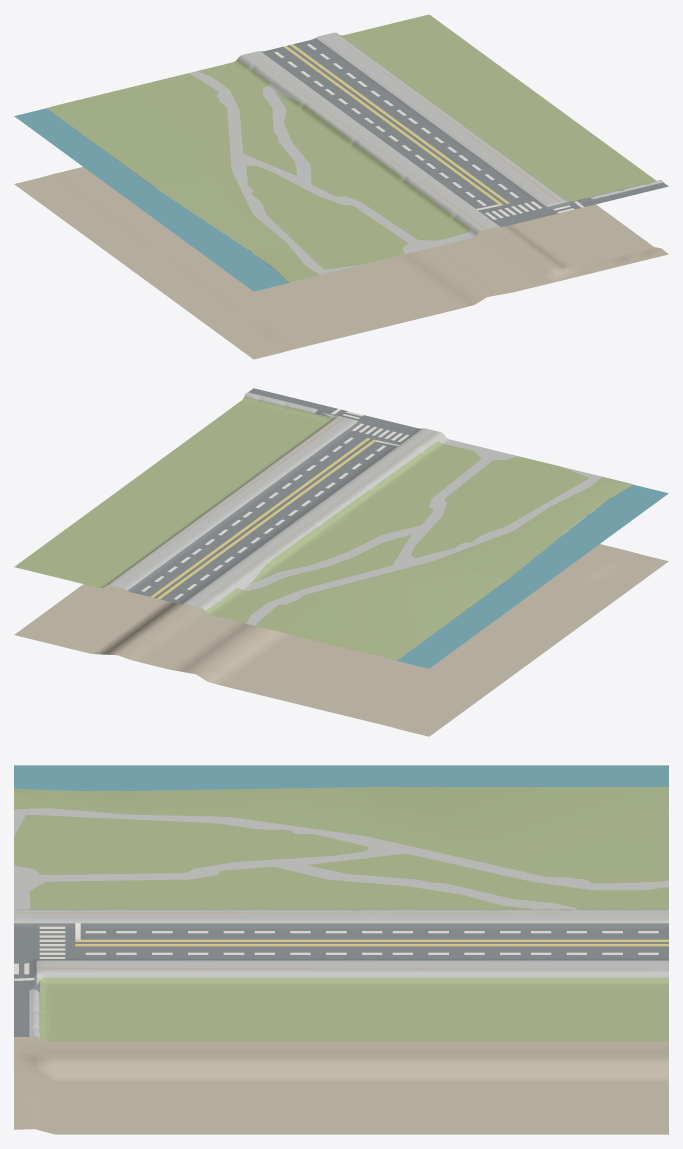
3 renders of one model, top to bottom at view 1: azimuth 30°, elevation 25°; view 2: azimuth 150°, elevation 25°; view 3: azimuth 270°, elevation 25°, orthographic. The views are drawn at different scales.
Visible parts, largest first — view 1: s_-12_-4__grass, s_-12_-4__soil, s_-12_-4__stone_paving, s_-12_-4__asphalt, s_-12_-4__water, s_-12_-4__yellow_marking, s_-12_-4__white_marking, s_-12_-4__timber_deck; view 2: s_-12_-4__grass, s_-12_-4__soil, s_-12_-4__stone_paving, s_-12_-4__asphalt, s_-12_-4__water, s_-12_-4__yellow_marking, s_-12_-4__white_marking, s_-12_-4__timber_deck; view 3: s_-12_-4__grass, s_-12_-4__soil, s_-12_-4__stone_paving, s_-12_-4__asphalt, s_-12_-4__water, s_-12_-4__yellow_marking, s_-12_-4__white_marking, s_-12_-4__timber_deck.
Part boxes in pixels (x1,y1,x2,y2): s_-12_-4__grass: [46, 14, 656, 282]; s_-12_-4__soil: [14, 167, 668, 359]; s_-12_-4__stone_paving: [188, 32, 662, 274]; s_-12_-4__asphalt: [261, 38, 668, 226]; s_-12_-4__water: [14, 108, 288, 291]; s_-12_-4__yellow_marking: [283, 44, 509, 205]; s_-12_-4__white_marking: [274, 44, 583, 219]; s_-12_-4__timber_deck: [247, 33, 560, 229]; s_-12_-4__grass: [14, 396, 633, 660]; s_-12_-4__soil: [14, 535, 668, 736]; s_-12_-4__stone_paving: [107, 392, 601, 625]; s_-12_-4__asphalt: [128, 388, 421, 603]; s_-12_-4__water: [397, 485, 668, 668]; s_-12_-4__yellow_marking: [150, 438, 376, 599]; s_-12_-4__white_marking: [141, 409, 409, 599]; s_-12_-4__timber_deck: [112, 417, 436, 606]; s_-12_-4__grass: [14, 786, 668, 1041]; s_-12_-4__soil: [14, 967, 668, 1134]; s_-12_-4__stone_paving: [14, 808, 668, 1038]; s_-12_-4__asphalt: [14, 923, 668, 1036]; s_-12_-4__water: [14, 765, 668, 790]; s_-12_-4__yellow_marking: [75, 939, 668, 946]; s_-12_-4__white_marking: [14, 923, 658, 980]; s_-12_-4__timber_deck: [14, 912, 668, 969].
Bounding box in the file's own units: 128 × 21.64 × 128.
